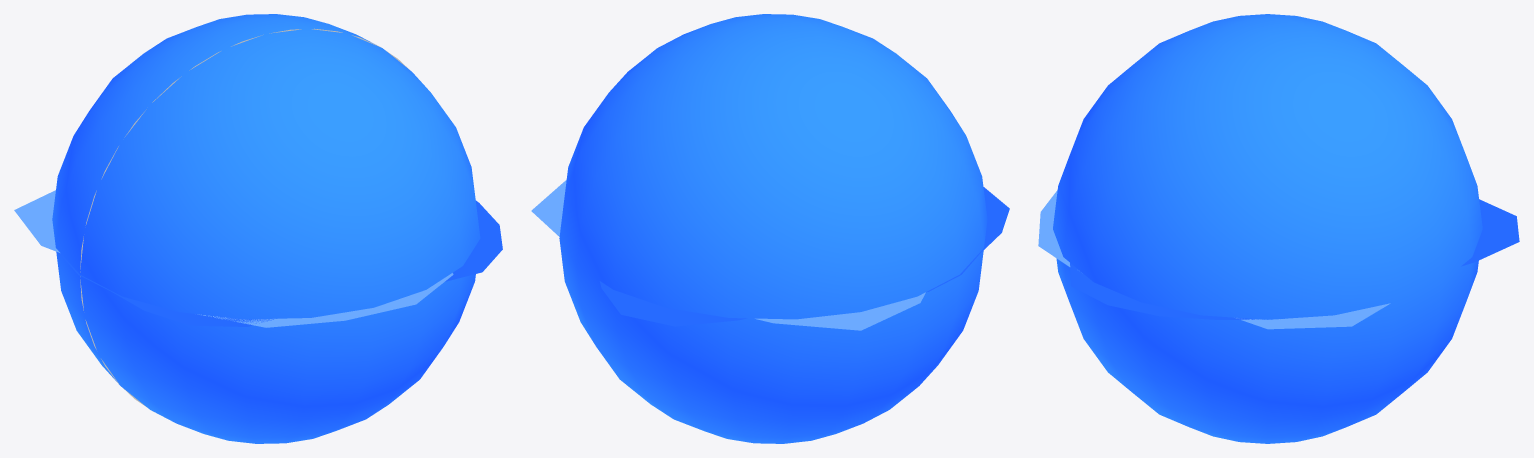
The picture shows the model from 3 angles, left to right: view 1: azimuth 30°, elevation 25°; view 2: azimuth 150°, elevation 25°; view 3: azimuth 270°, elevation 25°; orthographic projection.
Visible parts, largest first — view 1: blobGeo, puddleSheen, puddle, ring; view 2: blobGeo, puddle, puddleSheen; view 3: blobGeo, puddle, puddleSheen.
Boxes of the visible parts, left/top/right/bottom form: blobGeo: left=52, top=14, right=480, bottom=443; puddleSheen: left=14, top=190, right=453, bottom=327; puddle: left=60, top=200, right=502, bottom=326; ring: left=80, top=28, right=406, bottom=406; blobGeo: left=559, top=14, right=987, bottom=443; puddle: left=599, top=187, right=1009, bottom=326; puddleSheen: left=531, top=180, right=925, bottom=330; blobGeo: left=1053, top=14, right=1482, bottom=443; puddle: left=1070, top=199, right=1519, bottom=319; puddleSheen: left=1038, top=190, right=1390, bottom=329.
Size of the model in its own units: 2.11 by 2 by 2.24.
